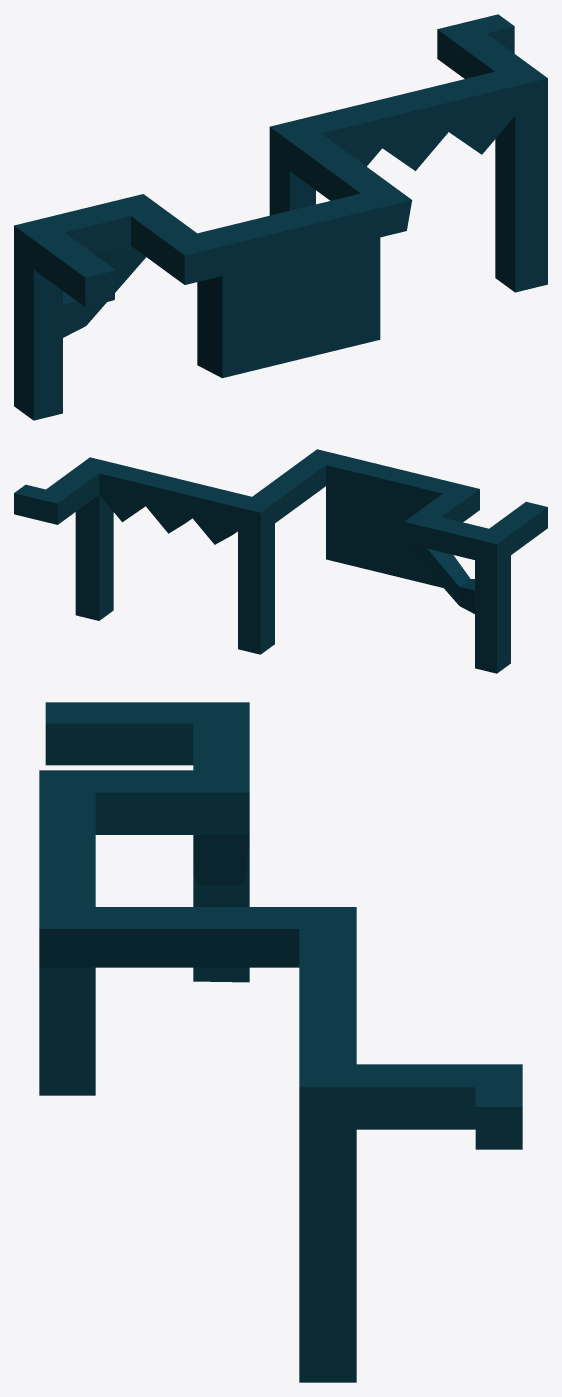
File: mapageneral2.fbx
3 views of the same model, one above another, from view 1: azimuth 30°, elevation 25°; view 2: azimuth 150°, elevation 25°; view 3: azimuth 270°, elevation 25° (orthographic). The views are drawn at different scales.
Visible parts, largest first — view 1: Cube; view 2: Cube; view 3: Cube.
Part boxes in pixels (x1,y1,x2,y2): Cube: (14,14,547,420); Cube: (14,449,547,673); Cube: (39,702,522,1382).
Size of the model in its own units: 3602 by 1225 by 1817.
